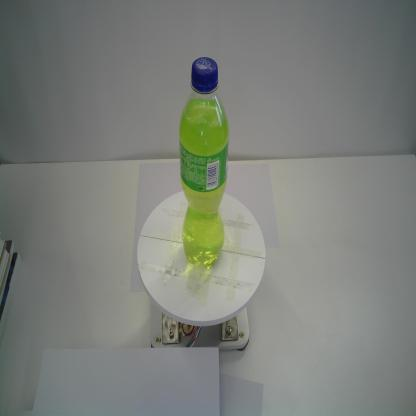Drink: (176, 55, 230, 272)
